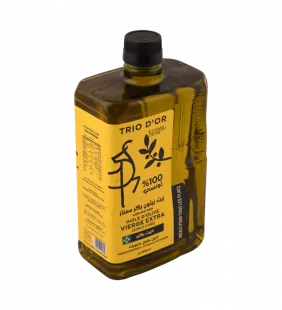Promotion: (68, 20, 219, 289)
